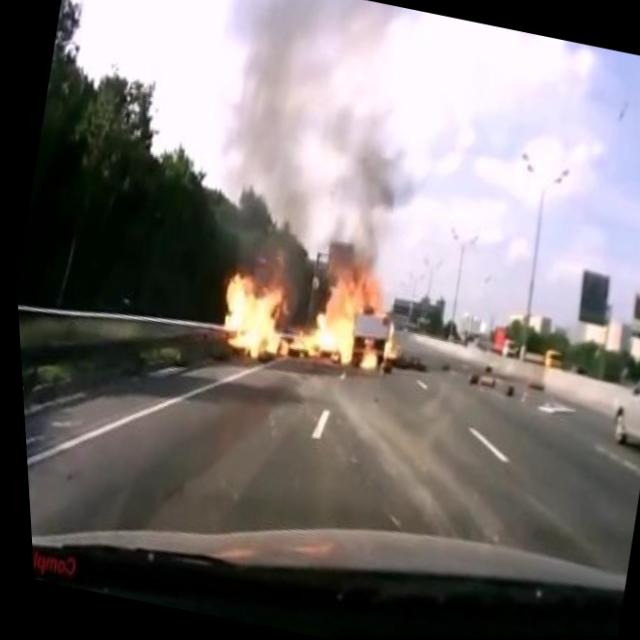fire: (204, 228, 372, 380), (348, 332, 378, 376), (374, 318, 402, 361)
